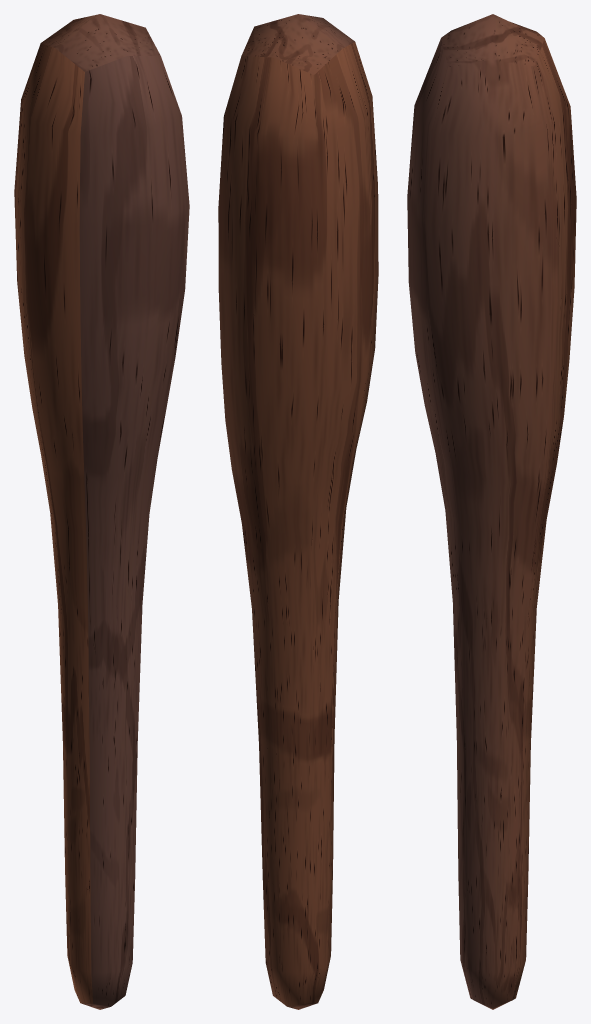
File: club.fbx
The picture shows the model from 3 angles, left to right: view 1: azimuth 30°, elevation 25°; view 2: azimuth 150°, elevation 25°; view 3: azimuth 270°, elevation 25°; orthographic projection.
Visible parts, largest first — view 1: Cube.001; view 2: Cube.001; view 3: Cube.001.
Boxes of the visible parts, left/top/right/bottom form: Cube.001: left=14, top=14, right=189, bottom=1009; Cube.001: left=218, top=14, right=378, bottom=1009; Cube.001: left=407, top=14, right=576, bottom=1009.
Size of the model in its own units: 23.32 by 152 by 23.5.
Materials: 1 (1 with a texture image).
